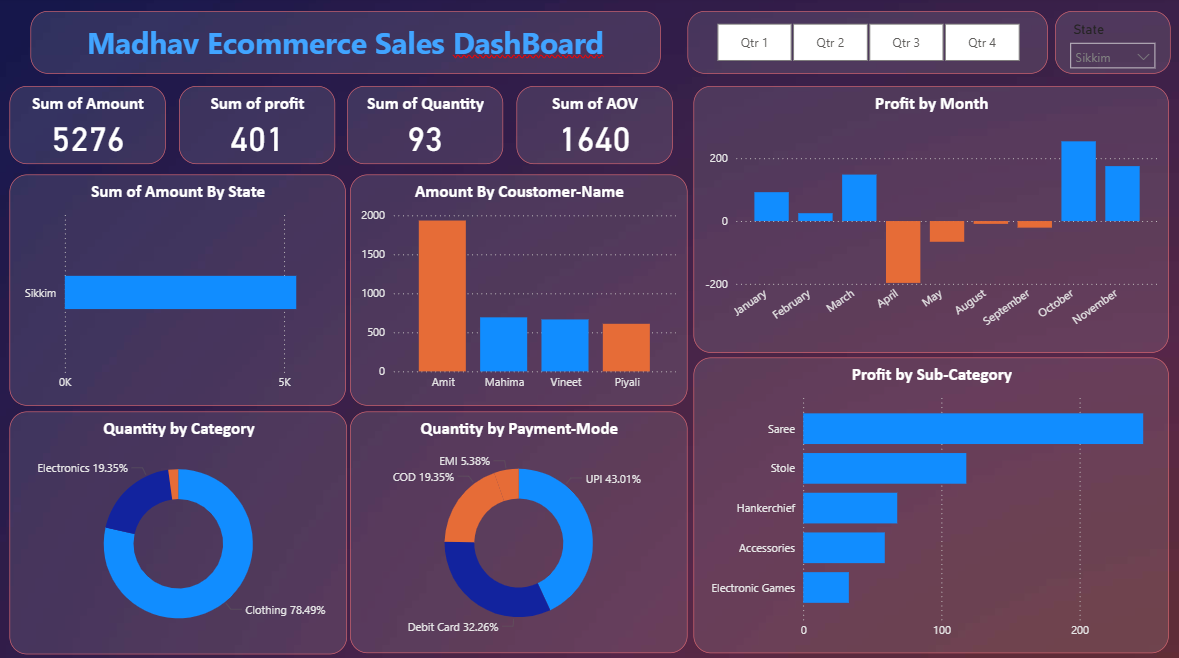

What the dashboard file says about the page in this screenshot:
{"tool":"powerbi","page":{"name":"Page 1","canvas":[1280,720],"ordinal":0},"visuals":[{"type":"columnChart","title":"Profit by Month","fields":{"Category":["Orders.Order Date.Variation.Date Hierarchy.Month"],"Y":["Sum(Details.Profit)"]},"box":[753.1,97.6,515.6,289.5],"z":0},{"type":"donutChart","title":"Quantity by Payment-Mode","fields":{"Y":["Sum(Details.Quantity)"],"Category":["Details.PaymentMode"]},"box":[380.6,450.6,366,261.9],"z":1000},{"type":"barChart","title":"Profit by Sub-Category","fields":{"Category":["Details.Sub-Category"],"Y":["Sum(Details.Profit)"]},"box":[753.1,392,515.6,320.4],"z":2000},{"type":"donutChart","title":"Quantity by Category","fields":{"Category":["Details.Category"],"Y":["Sum(Details.Quantity)"]},"box":[11.4,450.6,366,263.5],"z":3000},{"type":"card","title":"Sum of AOV","fields":{"Values":["Sum(Details.AOV)"]},"box":[561.2,97.6,169.2,84.6],"z":4000},{"type":"card","title":"Sum of profit","fields":{"Values":["Sum(Details.Profit)"]},"box":[195.2,97.6,169.2,84.6],"z":5000},{"type":"card","title":"Sum of Quantity","fields":{"Values":["Sum(Details.Quantity)"]},"box":[377.4,97.6,169.2,84.6],"z":6000},{"type":"card","title":"Sum of Amount","fields":{"Values":["Sum(Details.Amount)"]},"box":[11.4,97.6,169.2,84.6],"z":7000},{"type":"barChart","title":"Sum of Amount By State","fields":{"Category":["Orders.State"],"Y":["Sum(Details.Amount)"]},"box":[11.4,193.6,364.3,250.5],"z":8000},{"type":"columnChart","title":"Amount By Coustomer-Name","fields":{"Y":["Sum(Details.Amount)"],"Category":["Orders.CustomerName"]},"box":[380.6,193.6,366,250.5],"z":9000},{"type":"textbox","box":[34.2,16.3,683.1,68.3],"z":10000},{"type":"slicer","fields":{"Values":["Orders.Order Date.Variation.Date Hierarchy.Quarter"]},"box":[746.6,16.3,390.4,68.3],"z":11000},{"type":"slicer","fields":{"Values":["Orders.State"]},"box":[1145.1,16.3,125.2,68.3],"z":12000}]}

Visuals, with their boxes in screenshot pixels (x1, y1, x2, y2), scaled from the page's 1280x720 canvas onto the 1179x658 screenshot:
"Profit by Month" columnChart: Rect(694, 89, 1169, 354)
"Quantity by Payment-Mode" donutChart: Rect(351, 412, 688, 651)
"Profit by Sub-Category" barChart: Rect(694, 358, 1169, 651)
"Quantity by Category" donutChart: Rect(11, 412, 348, 653)
"Sum of AOV" card: Rect(517, 89, 673, 167)
"Sum of profit" card: Rect(180, 89, 336, 167)
"Sum of Quantity" card: Rect(348, 89, 503, 167)
"Sum of Amount" card: Rect(11, 89, 166, 167)
"Sum of Amount By State" barChart: Rect(11, 177, 346, 406)
"Amount By Coustomer-Name" columnChart: Rect(351, 177, 688, 406)
textbox: Rect(32, 15, 661, 77)
slicer - Orders.Order Date.Variation.Date Hierarchy.Quarter: Rect(688, 15, 1047, 77)
slicer - Orders.State: Rect(1055, 15, 1170, 77)
